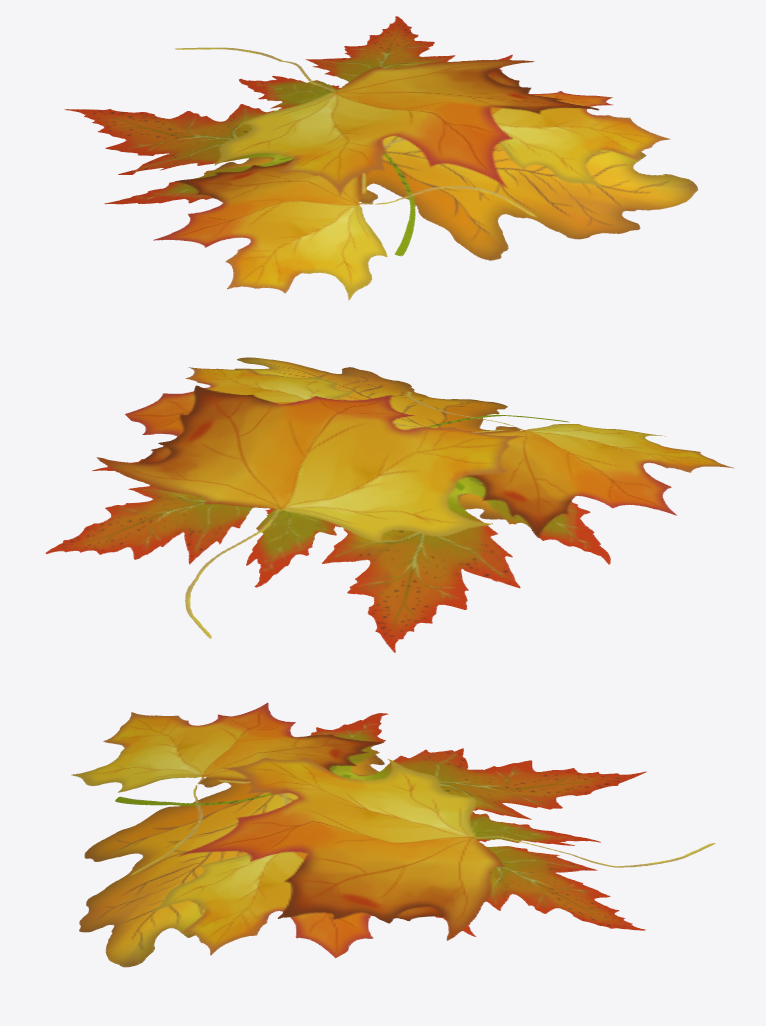
The model's file is dead_leaf_group_2.fbx.
3 views of the same model, one above another, from view 1: azimuth 30°, elevation 25°; view 2: azimuth 150°, elevation 25°; view 3: azimuth 270°, elevation 25° (orthographic). The views are drawn at different scales.
Visible parts, largest first — view 1: dead_leaf_group_2; view 2: dead_leaf_group_2; view 3: dead_leaf_group_2.
Boxes of the visible parts, x1,y1,x2,y2 form: dead_leaf_group_2: [64, 16, 698, 300]; dead_leaf_group_2: [45, 357, 733, 652]; dead_leaf_group_2: [71, 702, 715, 967].
Size of the model in its own units: 56.32 by 5.73 by 53.87.
